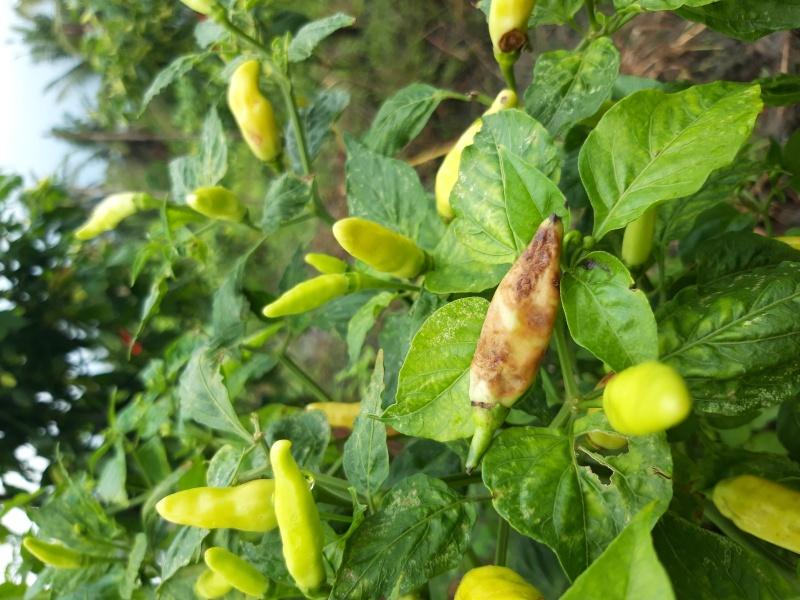antraknosa: (463, 212, 570, 411)
cabai_normal: (266, 435, 333, 592), (155, 475, 282, 534), (603, 361, 691, 437), (224, 58, 277, 164), (330, 216, 425, 274), (261, 273, 349, 320), (71, 191, 142, 240), (189, 183, 250, 224), (304, 252, 350, 277)
